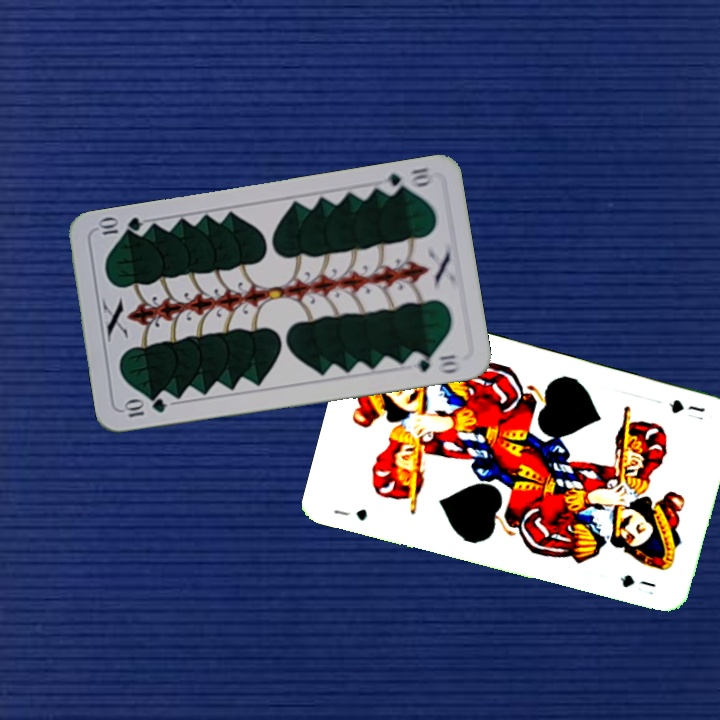G10: (378, 163, 436, 197), (119, 395, 169, 420)
GU: (664, 395, 708, 416), (329, 505, 370, 524)
